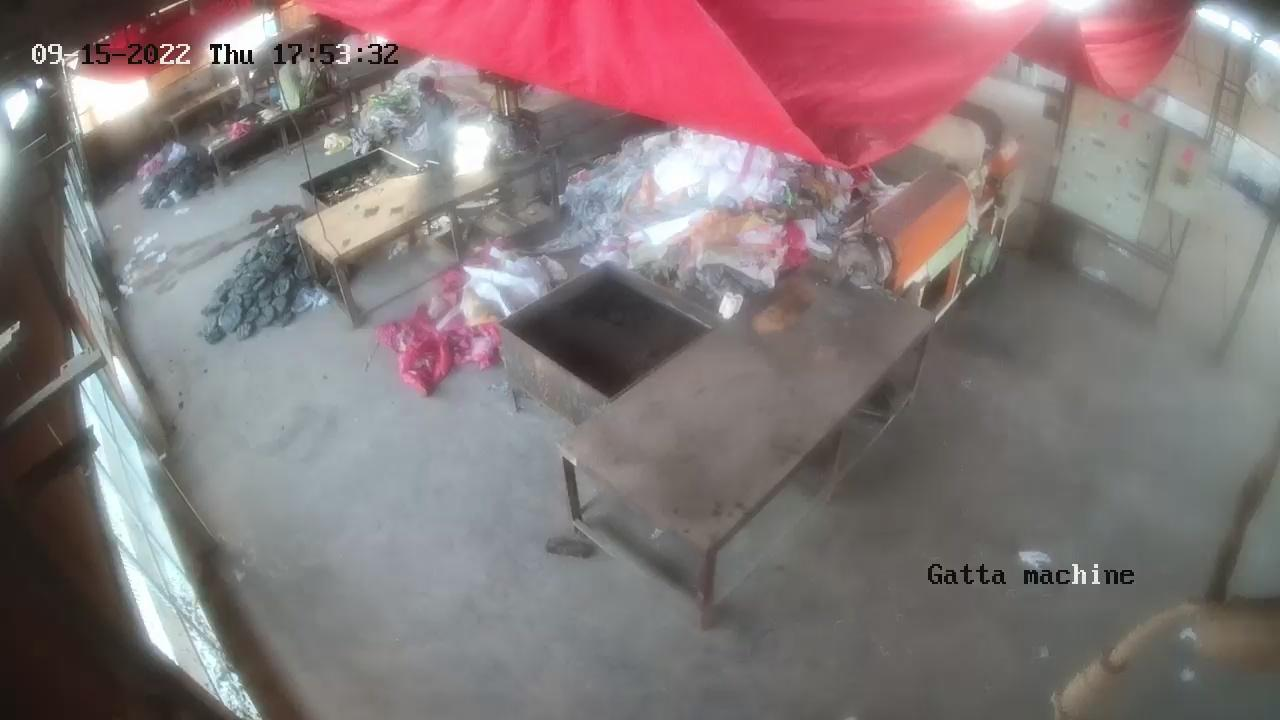person: (418, 76, 456, 162), (275, 52, 306, 107)
